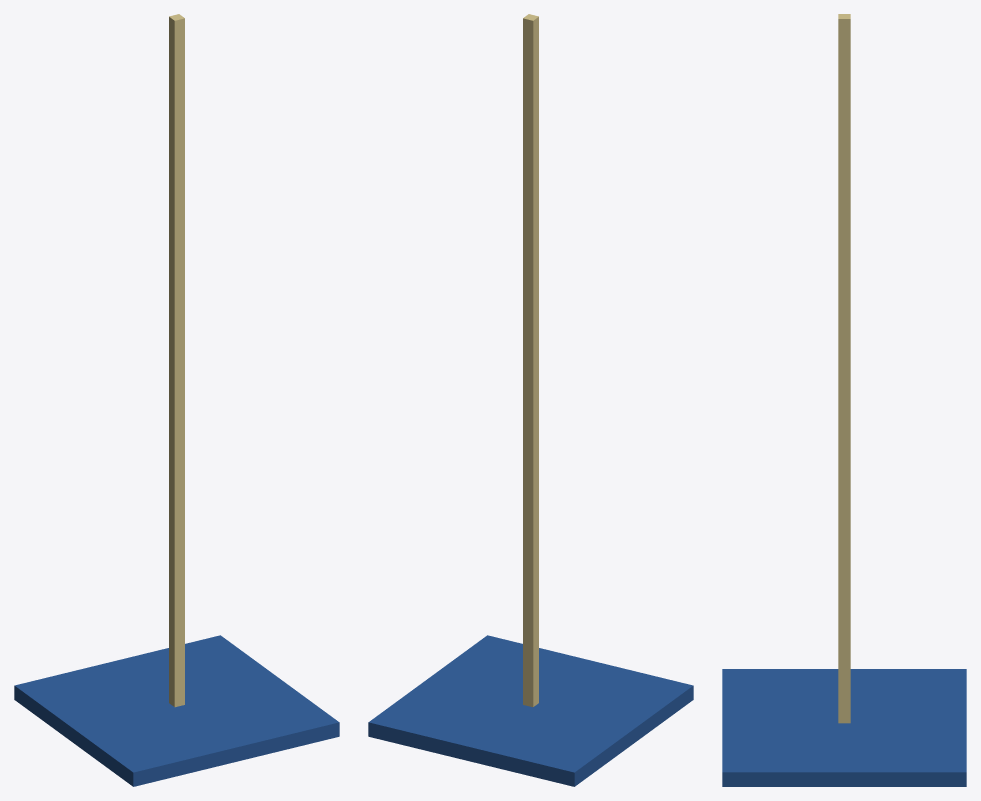
File: gym_rope.glb
The picture shows the model from 3 angles, left to right: view 1: azimuth 30°, elevation 25°; view 2: azimuth 150°, elevation 25°; view 3: azimuth 270°, elevation 25°; orthographic projection. The views are drawn at different scales.
Visible parts, largest first — view 1: Box2, Box1; view 2: Box2, Box1; view 3: Box2, Box1.
Part boxes in pixels (x1,y1,x2,y2): Box2: (14, 635, 339, 786); Box1: (169, 14, 184, 707); Box2: (368, 635, 693, 786); Box1: (523, 14, 538, 707); Box2: (722, 669, 966, 786); Box1: (838, 14, 850, 723).
Bounding box in the file's own units: 1.2 × 3.9 × 1.2.
